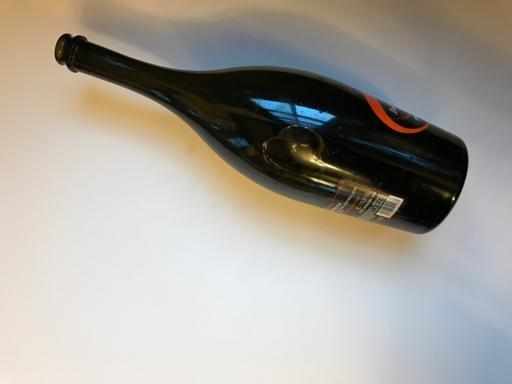botolkaca: (54, 33, 469, 234)
